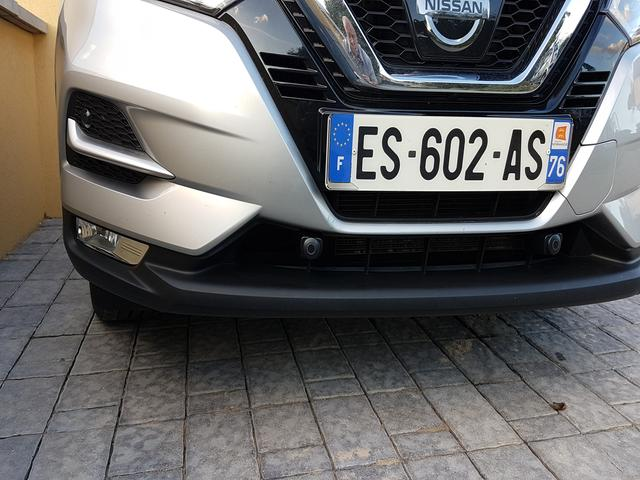Quashquai: (300, 83, 592, 215)
